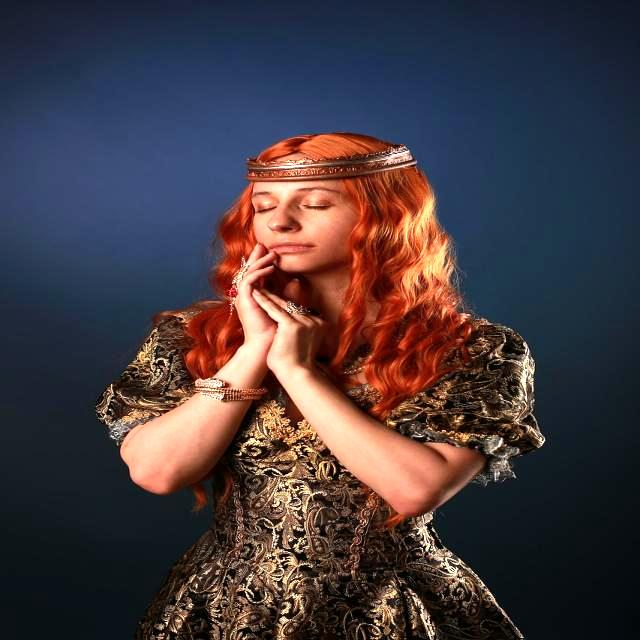no_hard_hat: (245, 146, 416, 182)
person: (98, 134, 542, 640)
